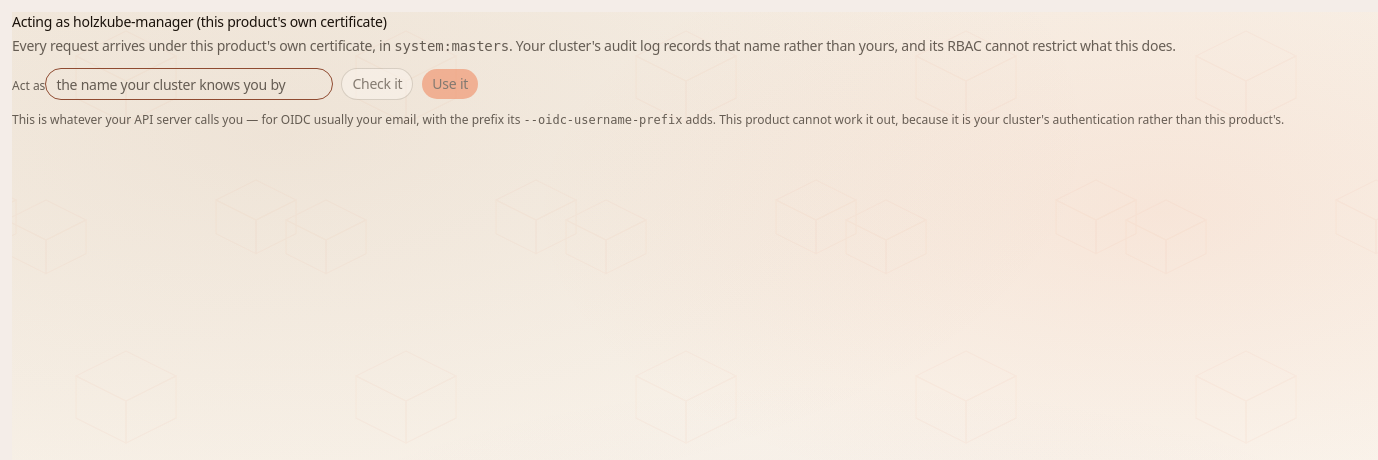
Scenario: choosing whose name the cluster sees › shows the cluster’s own refusals before anything is stored
Type "admin@example.com" into the field labelled "Act as" at (189, 84), box [45, 68, 333, 100]
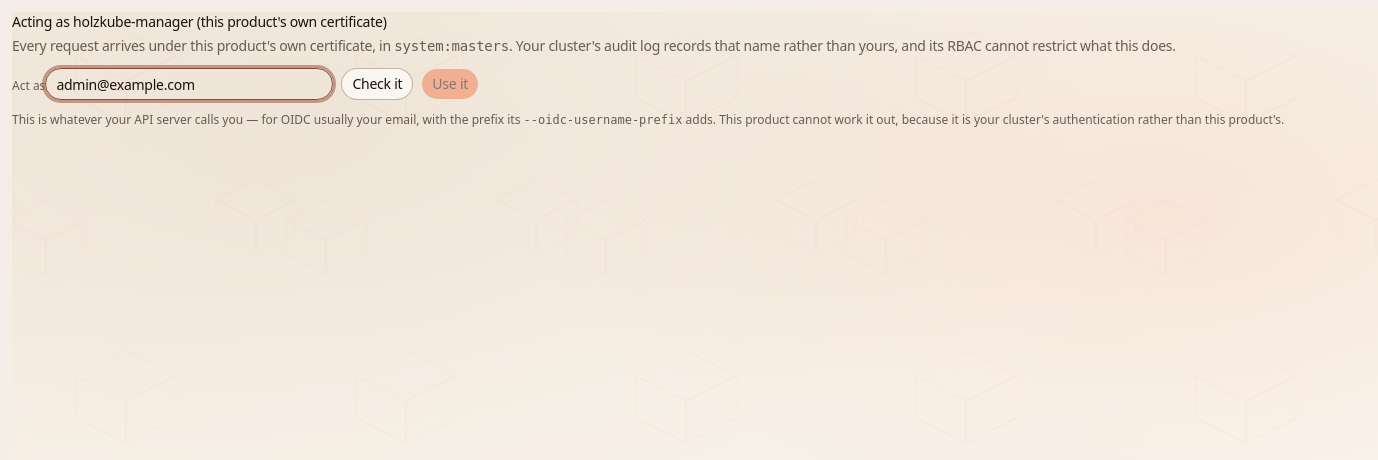
Click the button "Check it" at (377, 84), box [341, 68, 413, 100]
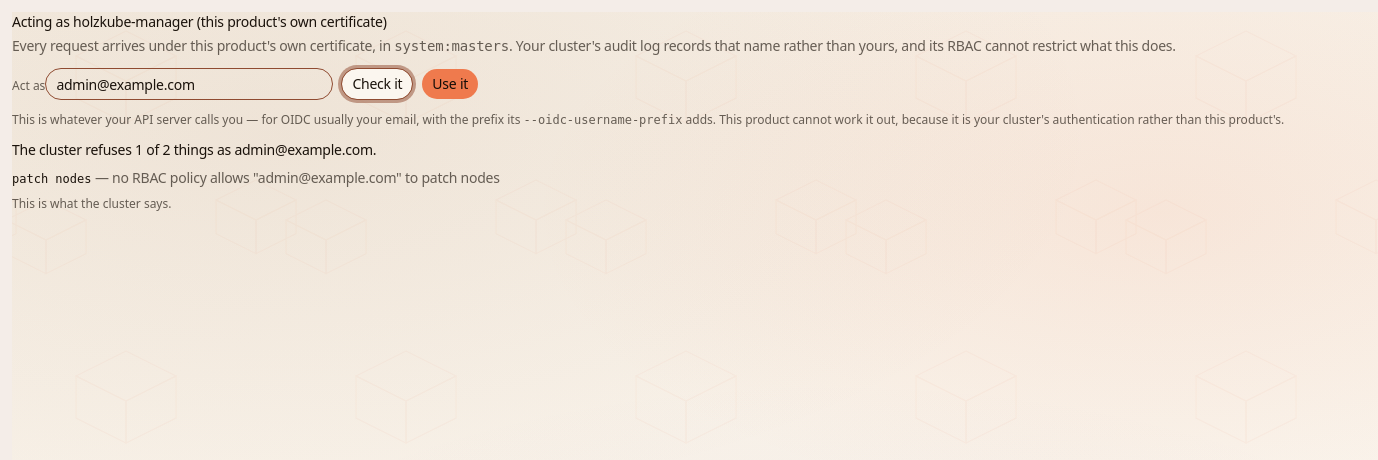
Expected: the text "The cluster refuses 1 of 2 things as admin@example.com." is shown, [12, 140, 376, 159]
Expected: the text "— no RBAC policy allows \"admin@example.com\" to patch nodes" is shown, [92, 168, 500, 187]
